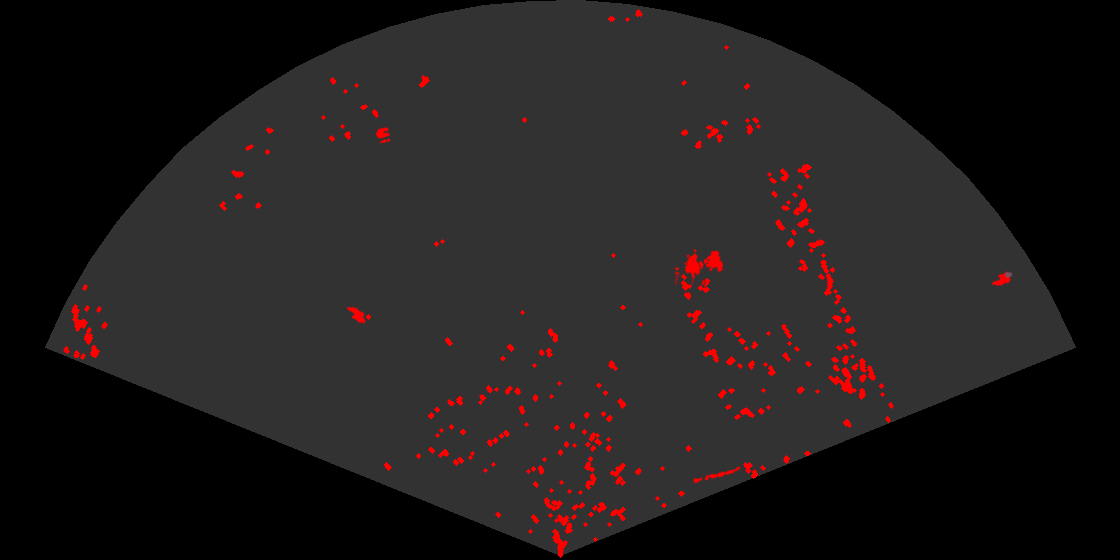AUV: (345, 305, 367, 325), (990, 270, 1014, 288)
ball: (374, 126, 392, 145)
cage: (675, 247, 725, 285)
chain: (692, 465, 743, 485)
